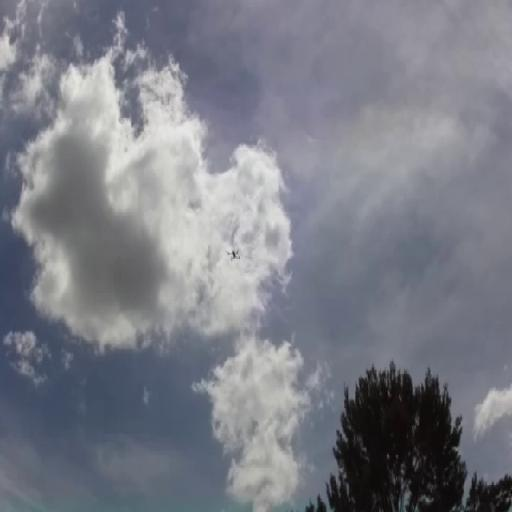drones: (226, 246, 245, 270)
